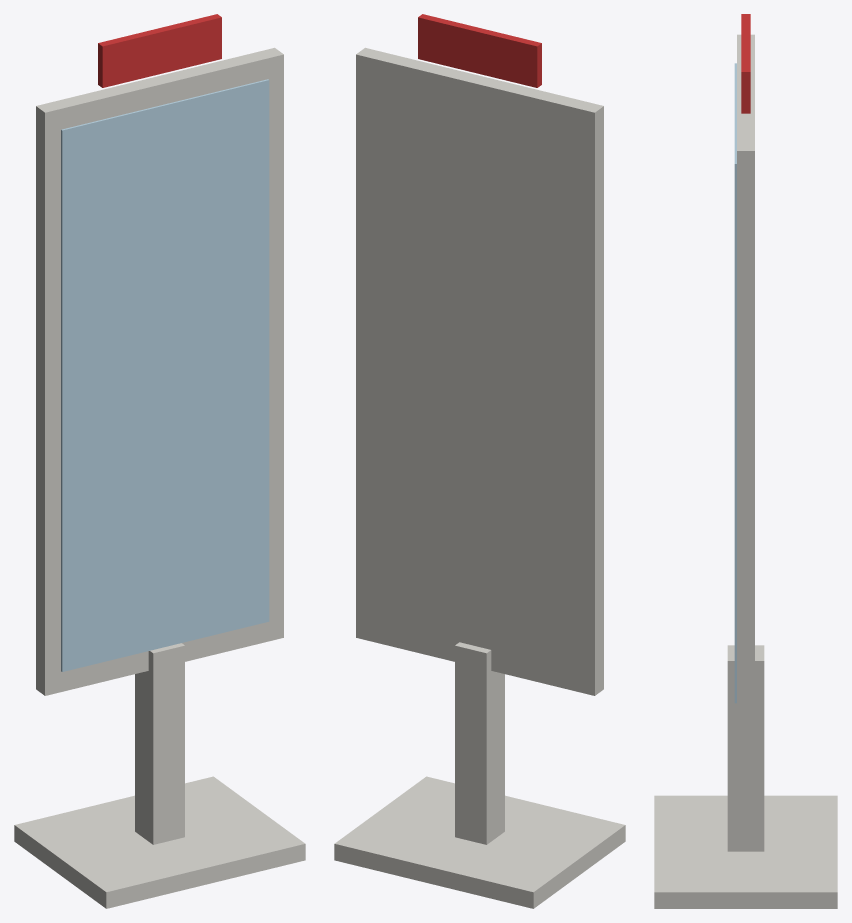
File: try_mirror.glb
3 renders of one model, left to right at view 1: azimuth 30°, elevation 25°; view 2: azimuth 150°, elevation 25°; view 3: azimuth 270°, elevation 25°, orthographic.
Visible parts, largest first — view 1: glass_mirror_glass, frame_display_white, foot_display_white, post_display_white, card_card_red; view 2: frame_display_white, foot_display_white, post_display_white, card_card_red; view 3: foot_display_white, frame_display_white, post_display_white, glass_mirror_glass, card_card_red.
Part boxes in pixels (x1=…): glass_mirror_glass: x1=61, y1=79, x2=269, y2=671; frame_display_white: x1=36, y1=47, x2=283, y2=695; foot_display_white: x1=14, y1=776, x2=305, y2=908; post_display_white: x1=135, y1=643, x2=184, y2=844; card_card_red: x1=98, y1=14, x2=221, y2=87; frame_display_white: x1=356, y1=47, x2=603, y2=695; foot_display_white: x1=334, y1=776, x2=625, y2=908; post_display_white: x1=455, y1=642, x2=504, y2=844; card_card_red: x1=418, y1=14, x2=541, y2=87; foot_display_white: x1=654, y1=795, x2=837, y2=908; frame_display_white: x1=737, y1=34, x2=754, y2=731; post_display_white: x1=727, y1=645, x2=764, y2=851; glass_mirror_glass: x1=734, y1=63, x2=736, y2=703; card_card_red: x1=741, y1=14, x2=750, y2=113.
Size of the model in its own units: 0.6 by 1.97 by 0.4.
